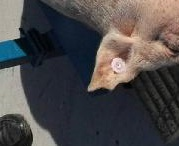text: (99, 51, 138, 83)
